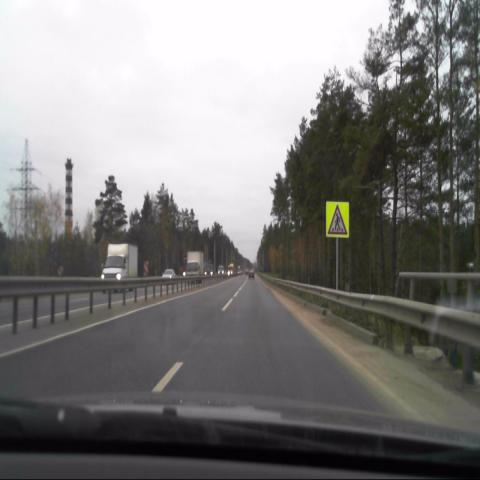1_22: (326, 199, 349, 237)
